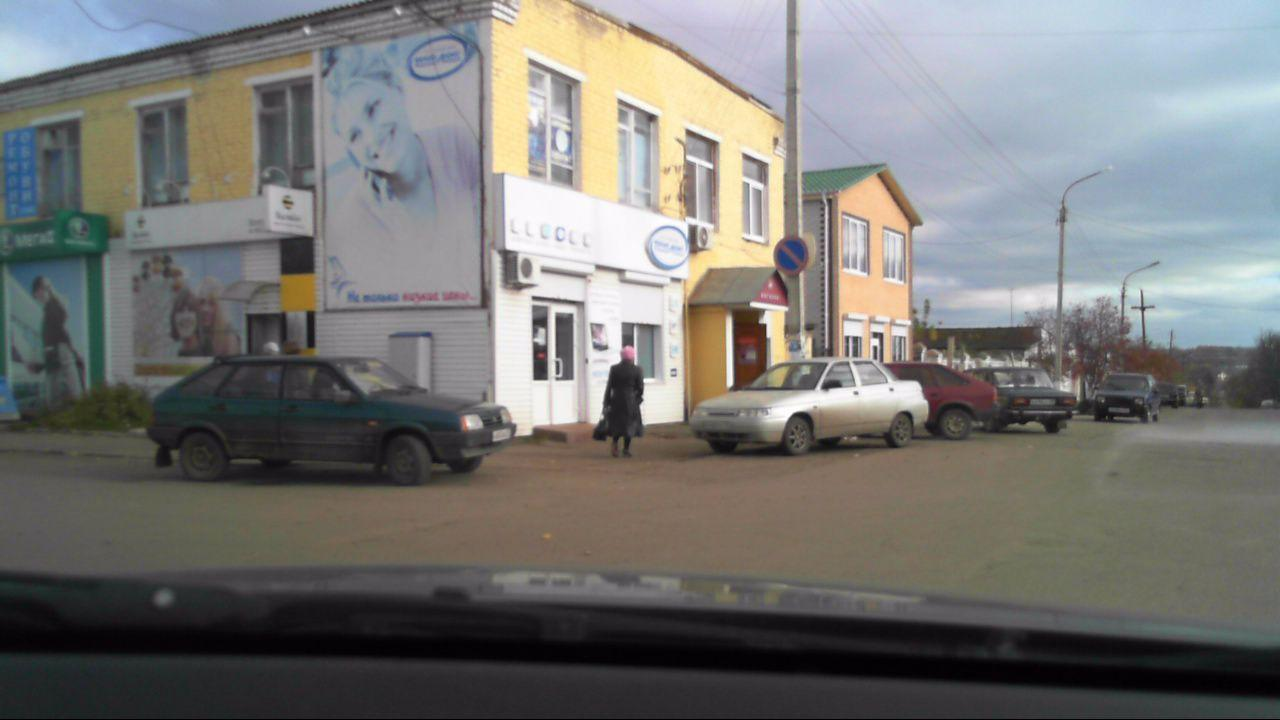3_28: (769, 232, 812, 275)
